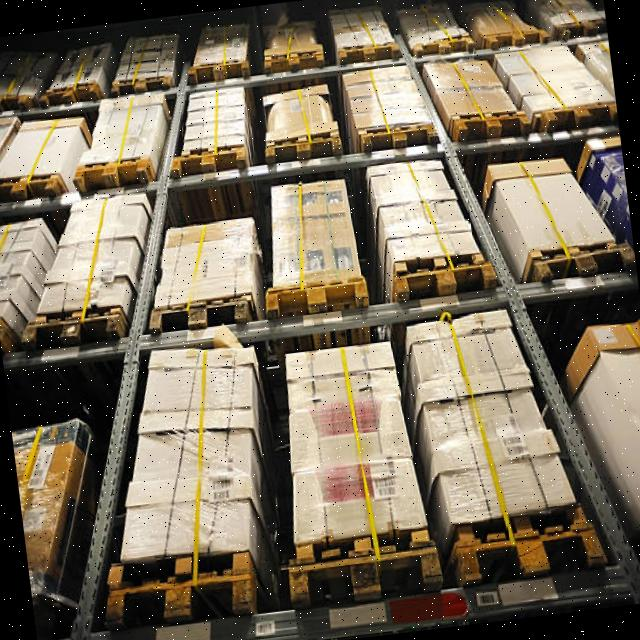Wooden-Pallets: (446, 514, 605, 588), (284, 536, 442, 609), (104, 565, 257, 638), (388, 243, 501, 304), (267, 276, 371, 320), (151, 292, 250, 335), (356, 118, 437, 156), (172, 144, 252, 180), (265, 132, 342, 162), (189, 56, 250, 87)
